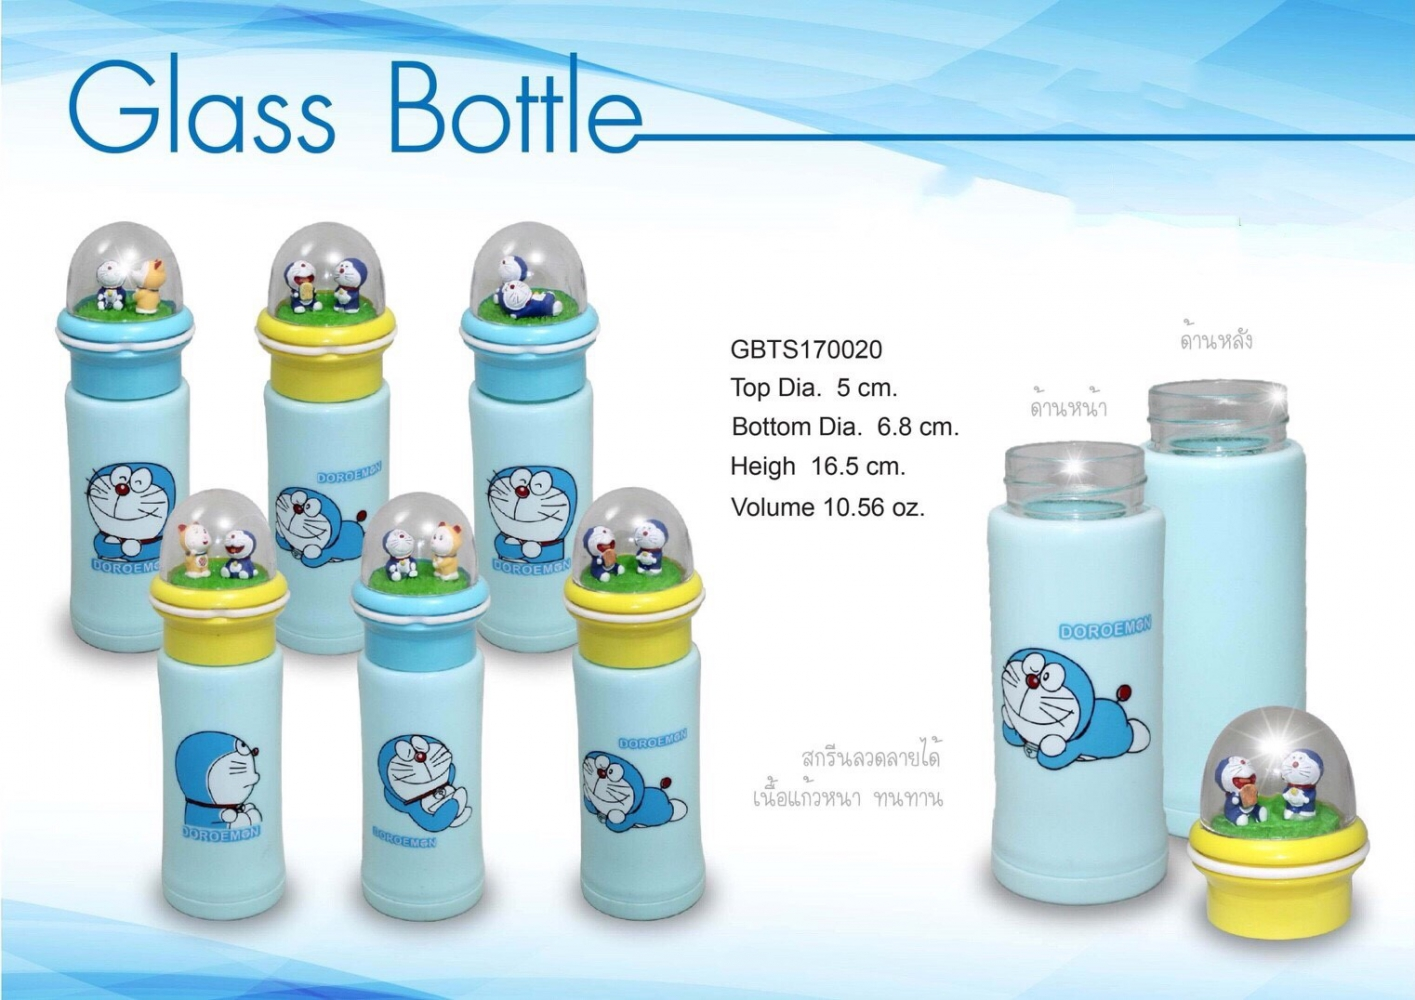glass_bottleww: (1110, 223, 1381, 883), (221, 141, 462, 728), (98, 400, 338, 951), (960, 406, 1176, 955), (425, 126, 608, 769), (541, 411, 748, 981), (312, 439, 530, 949), (10, 171, 207, 703)
